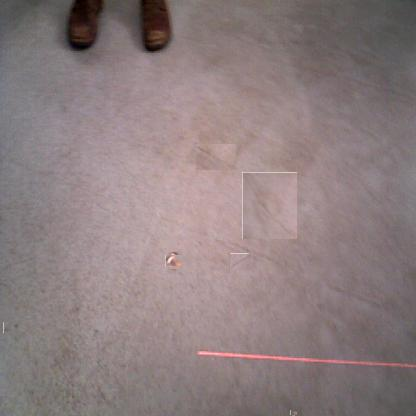dirty: (167, 253, 181, 268), (291, 409, 297, 416)
mark: (242, 172, 297, 239), (196, 144, 236, 170), (229, 253, 249, 270), (3, 322, 18, 334)
